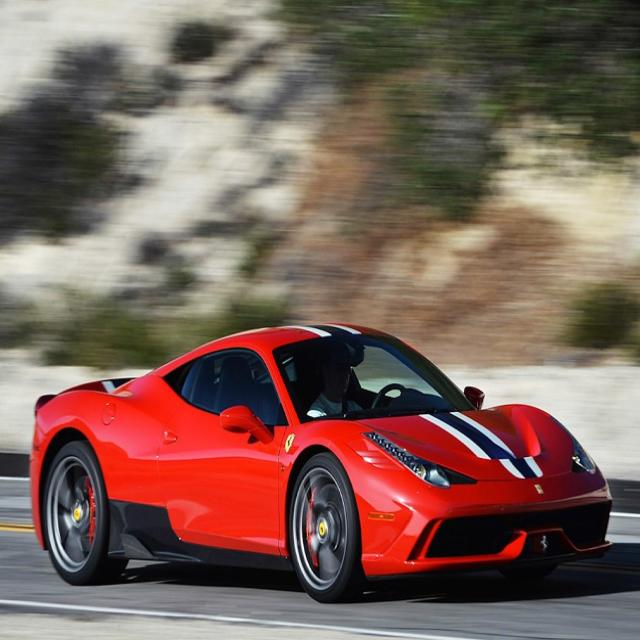front_bumper: (347, 477, 614, 581)
front_glass: (272, 330, 478, 424)
front_left_side_light: (550, 412, 598, 478)
front_left_side_mirror: (463, 383, 486, 410)
front_right_side_door: (154, 338, 289, 558)
front_right_side_light: (360, 428, 479, 488)
front_right_side_mirror: (219, 405, 272, 444)
wheel: (286, 452, 366, 602), (44, 441, 127, 584)
